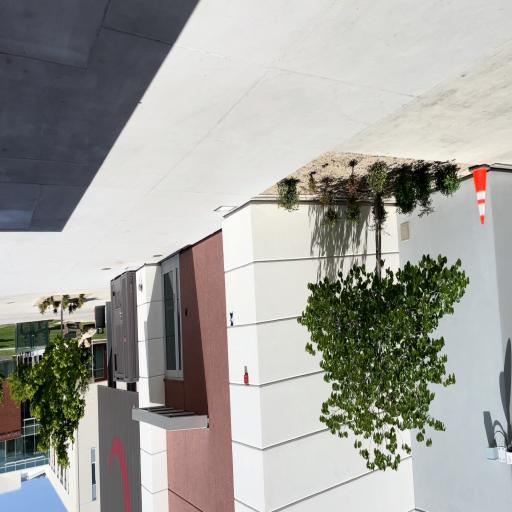target9: (229, 312, 234, 326)
